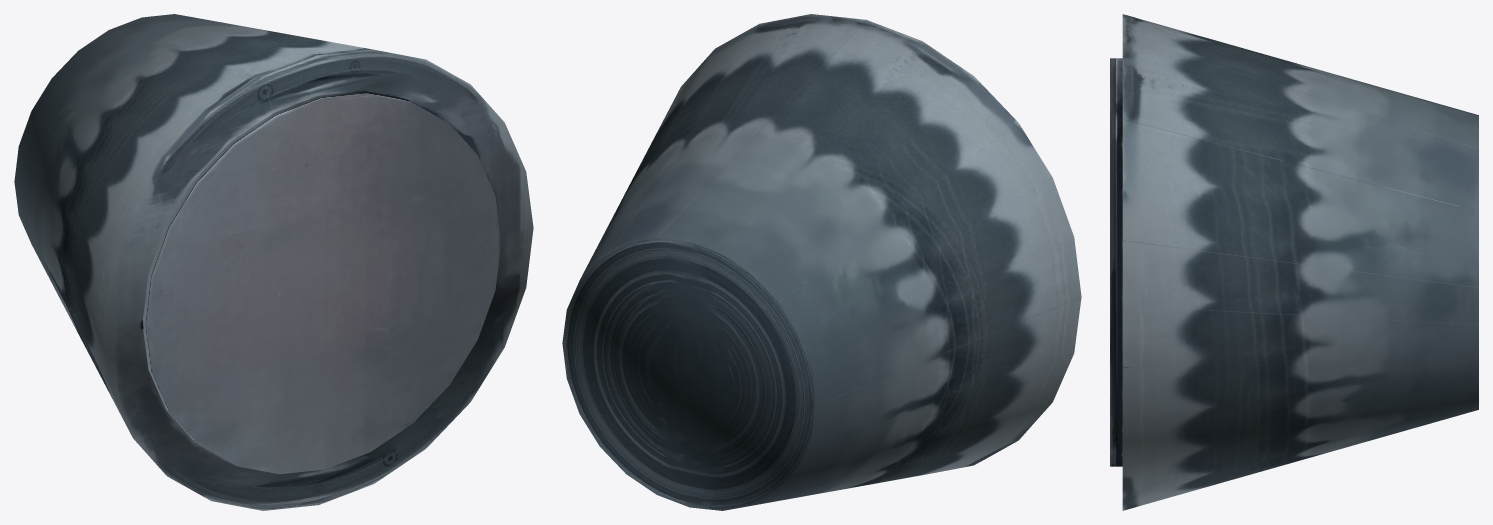
The model's file is SM_Tuyere_Aux.glb.
3 renders of one model, left to right at view 1: azimuth 30°, elevation 25°; view 2: azimuth 150°, elevation 25°; view 3: azimuth 270°, elevation 25°, orthographic.
Bounding box in the file's own units: 2 × 2 × 1.48.
Materials: 1 (1 with a texture image).
